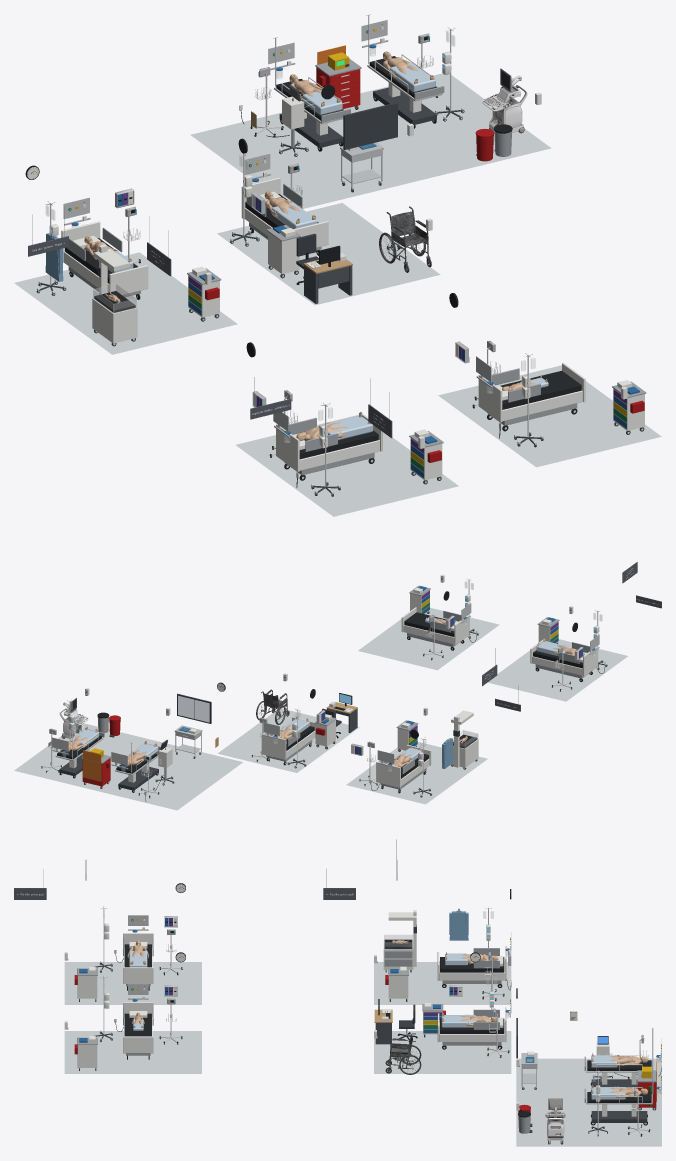
The model's file is 13_n1_urgencias.glb.
The picture shows the model from 3 angles, top to bottom: view 1: azimuth 30°, elevation 25°; view 2: azimuth 150°, elevation 25°; view 3: azimuth 270°, elevation 25°; orthographic projection. The views are drawn at different scales.
Parts seen in each view (by area): view 1: piso · Atención al politraumatizado y recepción de ambulanci, piso · Urgencias ginecológicas, piso · Urgencias pediátricas, piso · Urgencias adultos, piso · Sala de urgencias · Triage, cama_urgencias.001 (×2), carro_curacion (×4), cama_urgencias.002, cama_urgencias, cuna_radiante, camilla_trauma.001, carro_rojo (+7 smaller); view 2: piso · Atención al politraumatizado y recepción de ambulanci, piso · Urgencias pediátricas, piso · Urgencias adultos, cama_urgencias.001 (×2), piso · Urgencias ginecológicas, piso · Sala de urgencias · Triage, carro_curacion (×4), cama_urgencias.002, cama_urgencias, cuna_radiante, carro_rojo, camilla_trauma.002 (+6 smaller); view 3: piso · Atención al politraumatizado y recepción de ambulanci, piso · Urgencias pediátricas, piso · Sala de urgencias · Triage, piso · Urgencias adultos, piso · Urgencias ginecológicas, cama_urgencias.001 (×2), carro_curacion (×4), cama_urgencias, cama_urgencias.002, camilla_trauma.001, cuna_radiante, camilla_trauma.002 (+5 smaller).
Part boxes in pixels (bbox=[...]): piso · Atención al politraumatizado y recepción de ambulanci: bbox=[190, 73, 551, 208]; piso · Urgencias ginecológicas: bbox=[14, 252, 237, 354]; piso · Urgencias pediátricas: bbox=[438, 365, 661, 467]; piso · Urgencias adultos: bbox=[236, 415, 458, 516]; piso · Sala de urgencias · Triage: bbox=[217, 203, 440, 305]; cama_urgencias.001 (×2): bbox=[241, 177, 382, 480]; carro_curacion (×4): bbox=[187, 225, 646, 484]; cama_urgencias.002: bbox=[478, 363, 585, 431]; cama_urgencias: bbox=[61, 221, 148, 299]; cuna_radiante: bbox=[92, 244, 137, 346]; camilla_trauma.001: bbox=[366, 14, 444, 128]; carro_rojo: bbox=[315, 45, 361, 109]; piso · Atención al politraumatizado y recepción de ambulanci: bbox=[14, 723, 242, 810]; piso · Urgencias pediátricas: bbox=[358, 607, 499, 670]; piso · Urgencias adultos: bbox=[488, 639, 627, 701]; cama_urgencias.001 (×2): bbox=[261, 639, 597, 765]; piso · Urgencias ginecológicas: bbox=[346, 742, 487, 804]; piso · Sala de urgencias · Triage: bbox=[218, 708, 358, 772]; carro_curacion (×4): bbox=[315, 585, 559, 751]; cama_urgencias.002: bbox=[401, 607, 469, 650]; cama_urgencias: bbox=[376, 744, 431, 793]; cuna_radiante: bbox=[451, 710, 478, 769]; carro_rojo: bbox=[82, 748, 111, 788]; camilla_trauma.002: bbox=[115, 742, 160, 792]; piso · Atención al politraumatizado y recepción de ambulanci: bbox=[516, 1058, 661, 1146]; piso · Urgencias pediátricas: bbox=[64, 1031, 201, 1073]; piso · Sala de urgencias · Triage: bbox=[374, 1031, 511, 1073]; piso · Urgencias adultos: bbox=[64, 962, 201, 1004]; piso · Urgencias ginecológicas: bbox=[374, 962, 511, 1004]; cama_urgencias.001 (×2): bbox=[123, 933, 506, 1049]; carro_curacion (×4): bbox=[74, 966, 445, 1070]; cama_urgencias: bbox=[437, 946, 506, 987]; cama_urgencias.002: bbox=[123, 1002, 153, 1059]; camilla_trauma.001: bbox=[584, 1059, 653, 1125]; cuna_radiante: bbox=[383, 910, 416, 972]; camilla_trauma.002: bbox=[584, 1027, 653, 1091].
Bounding box in the file's own units: 15.02 × 3.49 × 19.8.
Materials: 45 (9 with a texture image).
